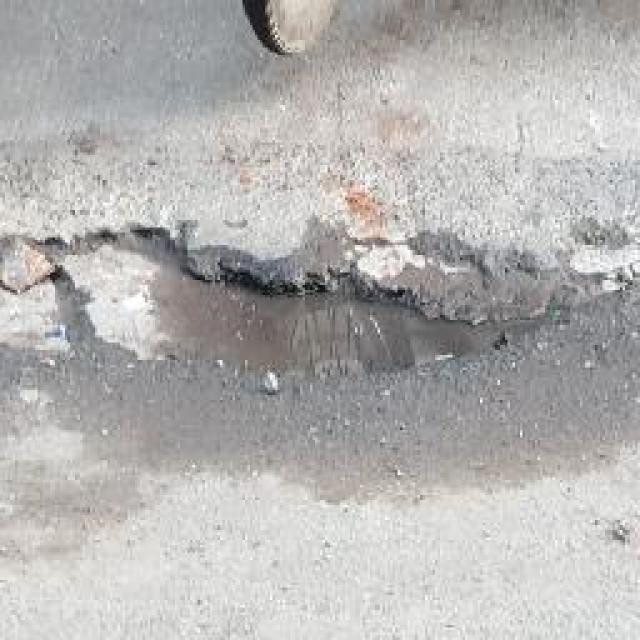stagnation: (175, 248, 464, 366)
